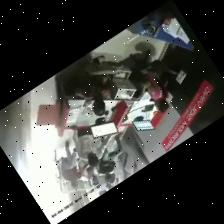person: (131, 54, 168, 111), (70, 125, 112, 166), (73, 69, 109, 115), (98, 135, 123, 181), (143, 70, 168, 111), (61, 140, 81, 186), (79, 159, 98, 184)
